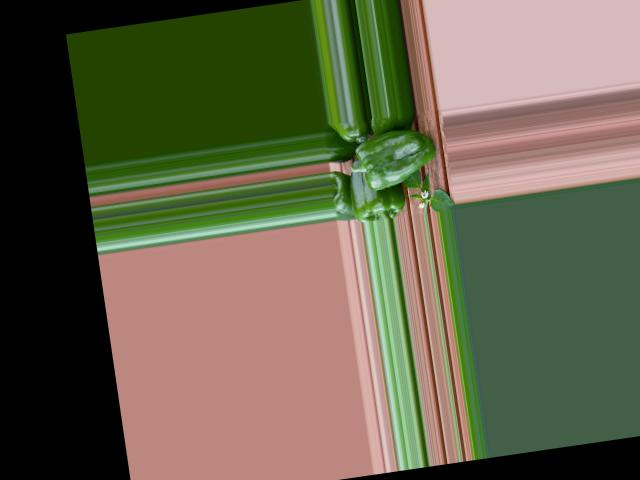bell_pepper: (327, 118, 367, 149)
